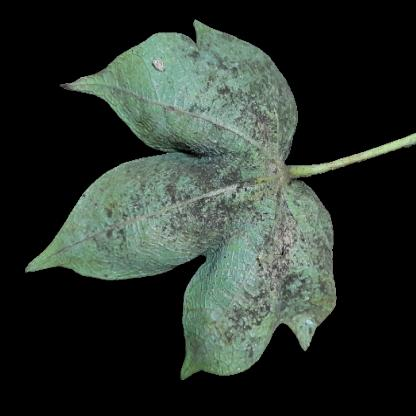curl_stage2: (106, 178, 168, 244), (129, 51, 181, 121), (69, 214, 105, 270), (190, 274, 226, 320)
sooty: (235, 235, 315, 331), (158, 149, 247, 235), (242, 163, 330, 237), (216, 55, 288, 144)
